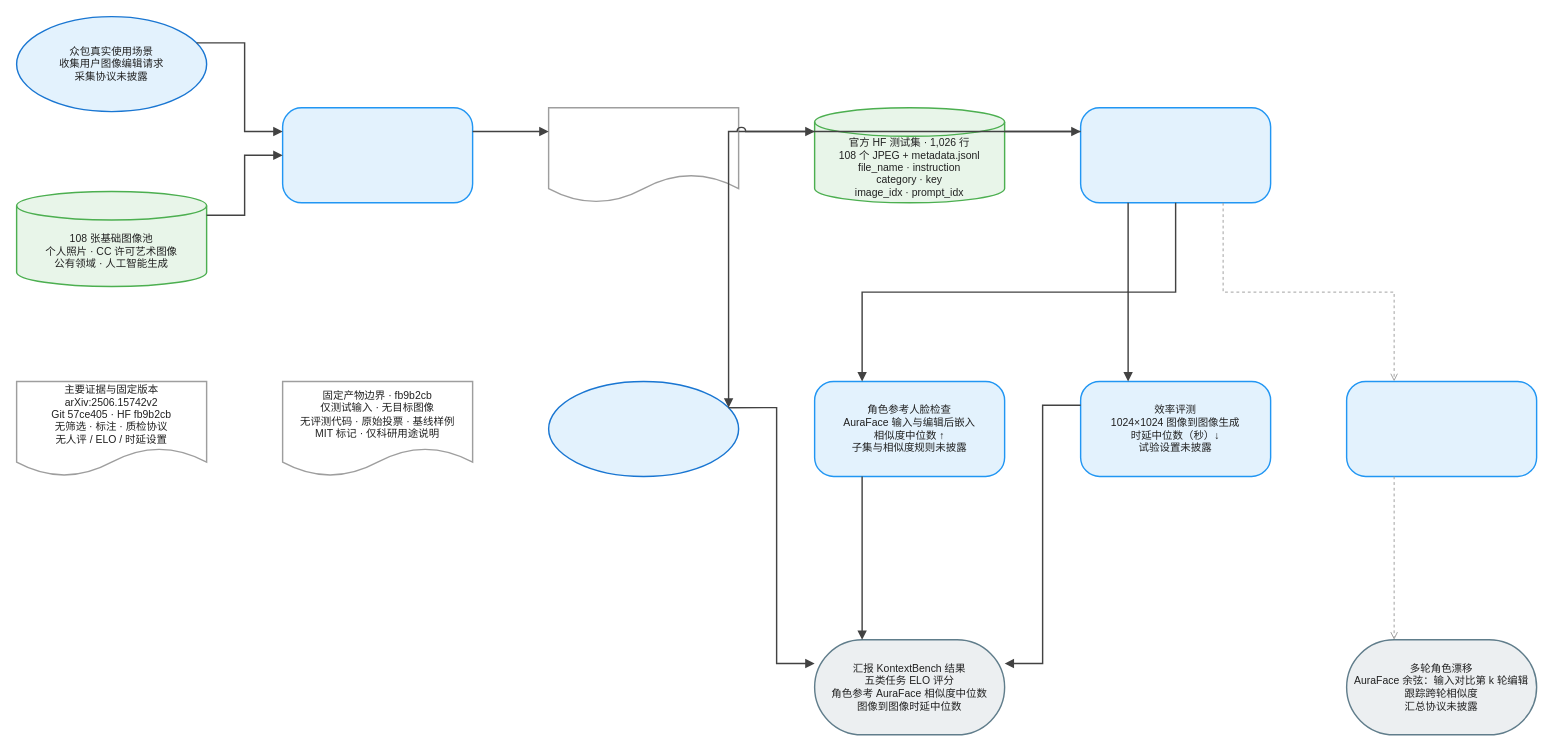
Image size: 1554x752. Some labels were removed from this diagram. The centre of each missing label's shape, as x and y in pixels:
"人工评测 五类编辑任务面板 ELO 评分 ↑ 协议与原始投票未公开" belongs at (643,428).
"标记五类核心任务 局部 416 · 全局 262 文本 92 · 风格 63 角色参考 193" belongs at (643,155).
"汇编 1,026 个独特配对 源图像 + 编辑指令 每张基础图像对应多个提示" belongs at (377,155).
"独立多轮研究 同一起点 + 提示序列 连续生成编辑结果 研究规模未披露" belongs at (1441,428).
"生成可比较输出 FLUX.1 Kontext [pro] · [dev] [max] 闭源与开放基线 参数与样本数未披露" belongs at (1175,155).
